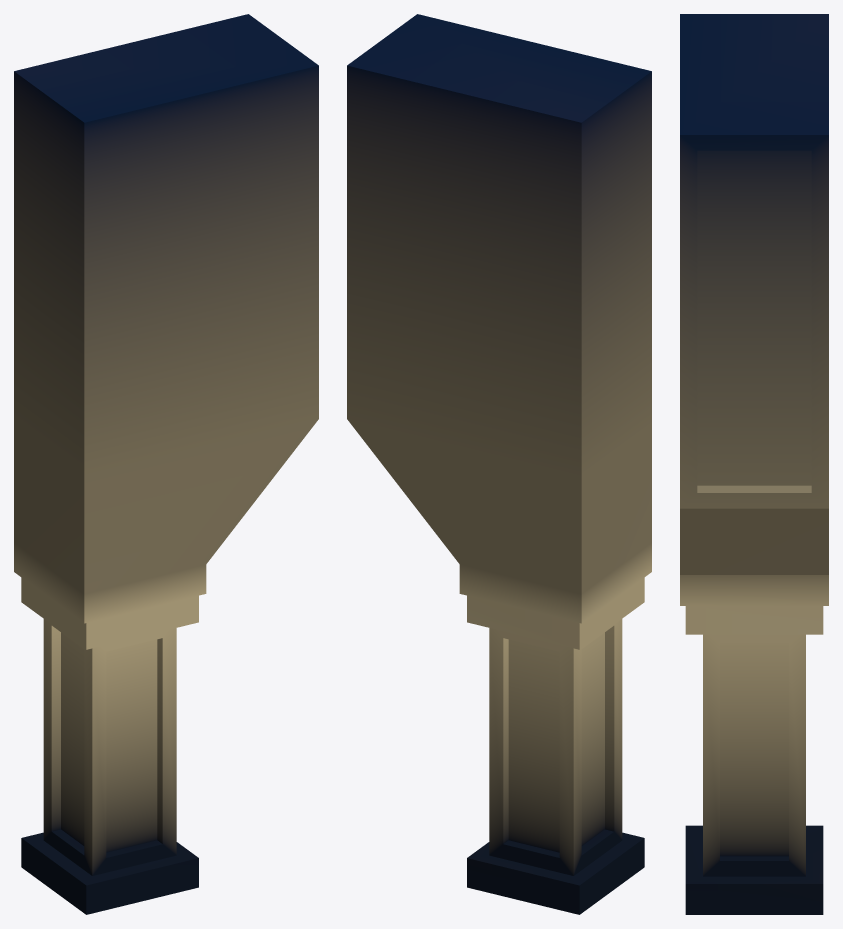
The model's file is pillar-angled.glb.
3 views of the same model, side by side, from view 1: azimuth 30°, elevation 25°; view 2: azimuth 150°, elevation 25°; view 3: azimuth 270°, elevation 25° (orthographic). The views are drawn at different scales.
Parts seen in each view (by area): view 1: PillarAngled; view 2: PillarAngled; view 3: PillarAngled.
Part boxes in pixels (x1=…): PillarAngled: x1=14, y1=14, x2=318, y2=914; PillarAngled: x1=347, y1=14, x2=651, y2=914; PillarAngled: x1=680, y1=14, x2=828, y2=914.
Bounding box in the file's own units: 2.08 × 6.75 × 1.08.
